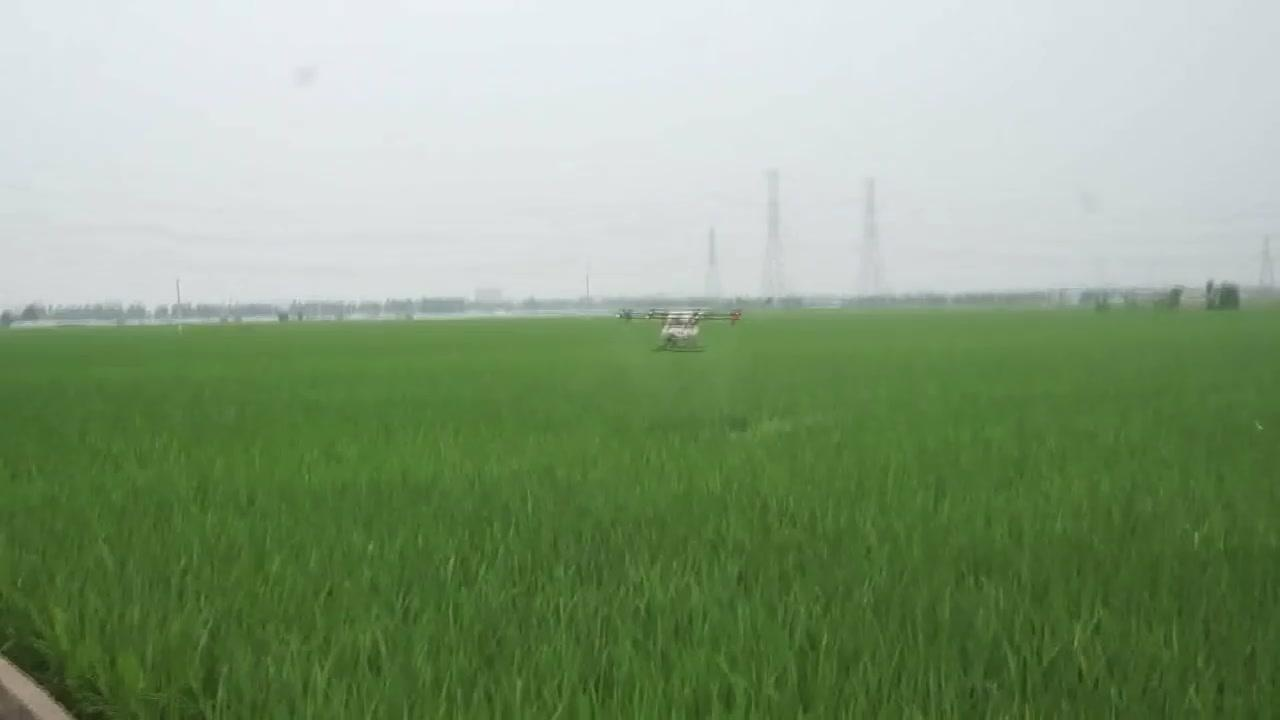UAV: (616, 308, 743, 354)
